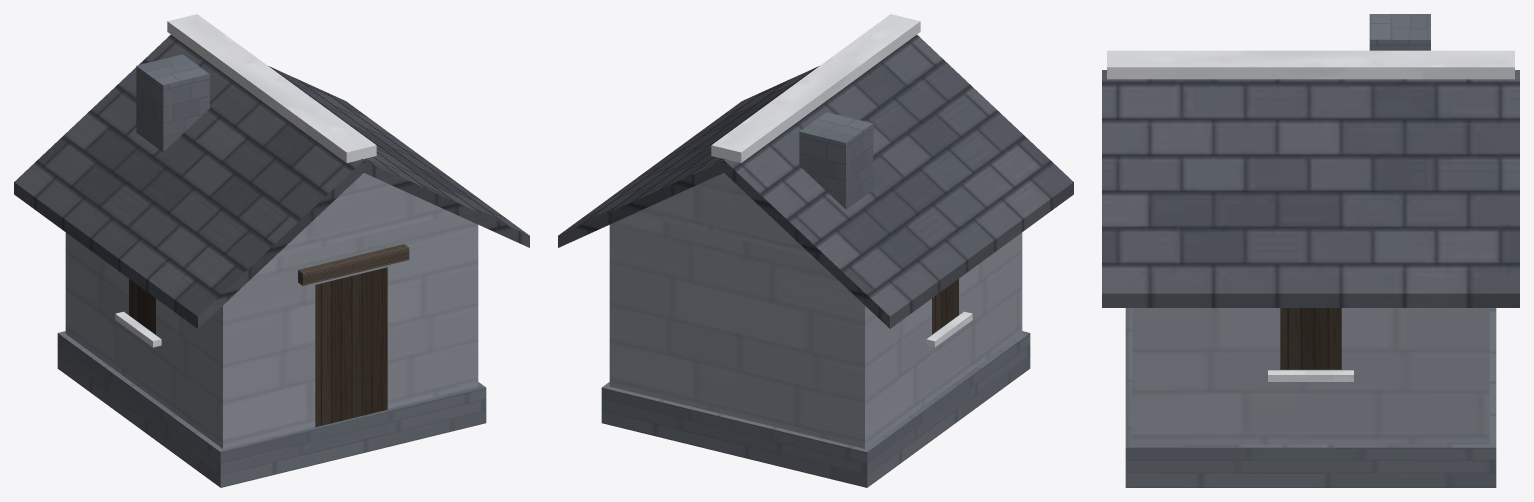
The model's file is ae_snow_stone_small_hut_lod1.glb.
3 renders of one model, left to right at view 1: azimuth 30°, elevation 25°; view 2: azimuth 150°, elevation 25°; view 3: azimuth 270°, elevation 25°, orthographic. The views are drawn at different scales.
Parts seen in each view (by area): view 1: ae_snow_stone_small_hut_lod1; view 2: ae_snow_stone_small_hut_lod1; view 3: ae_snow_stone_small_hut_lod1.
Part boxes in pixels (x1,y1,x2,y2): ae_snow_stone_small_hut_lod1: (14, 14, 529, 487); ae_snow_stone_small_hut_lod1: (558, 14, 1073, 487); ae_snow_stone_small_hut_lod1: (1102, 14, 1519, 487).
Bounding box in the file's own units: 3.9 × 3.51 × 3.74.
Materials: 1 (1 with a texture image).
